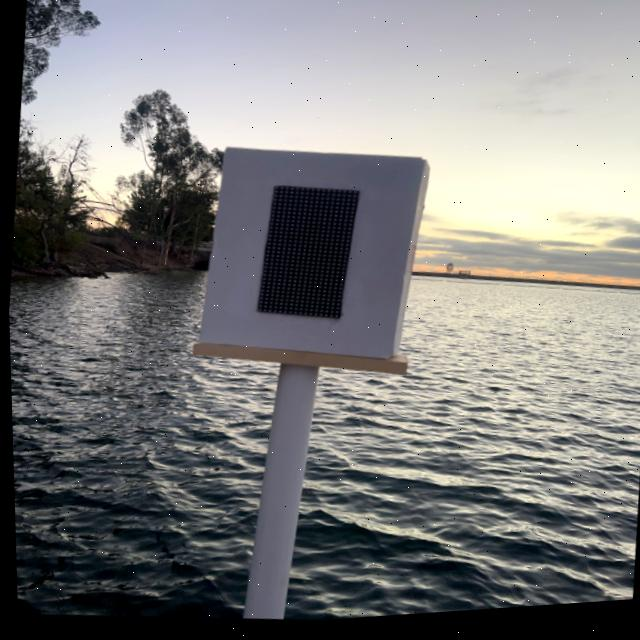led: (225, 152, 392, 362)
